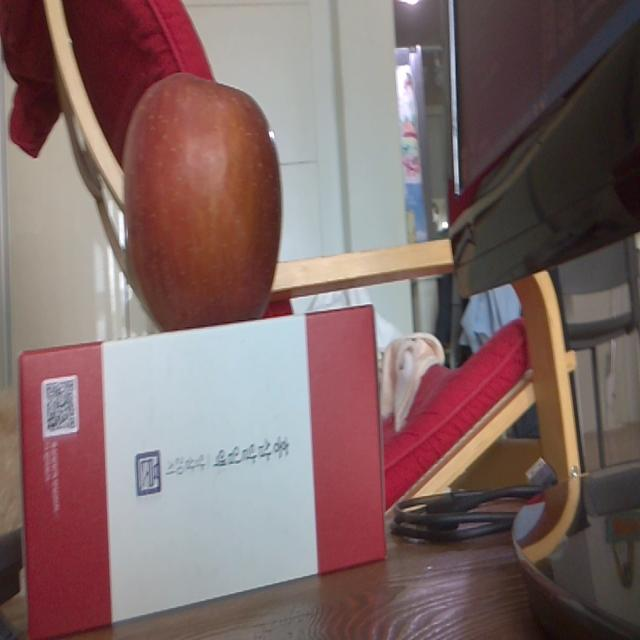apple: (124, 70, 284, 333)
